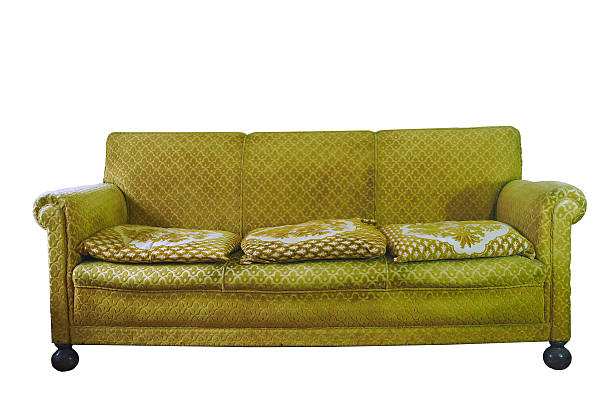couch: (30, 104, 588, 392)
